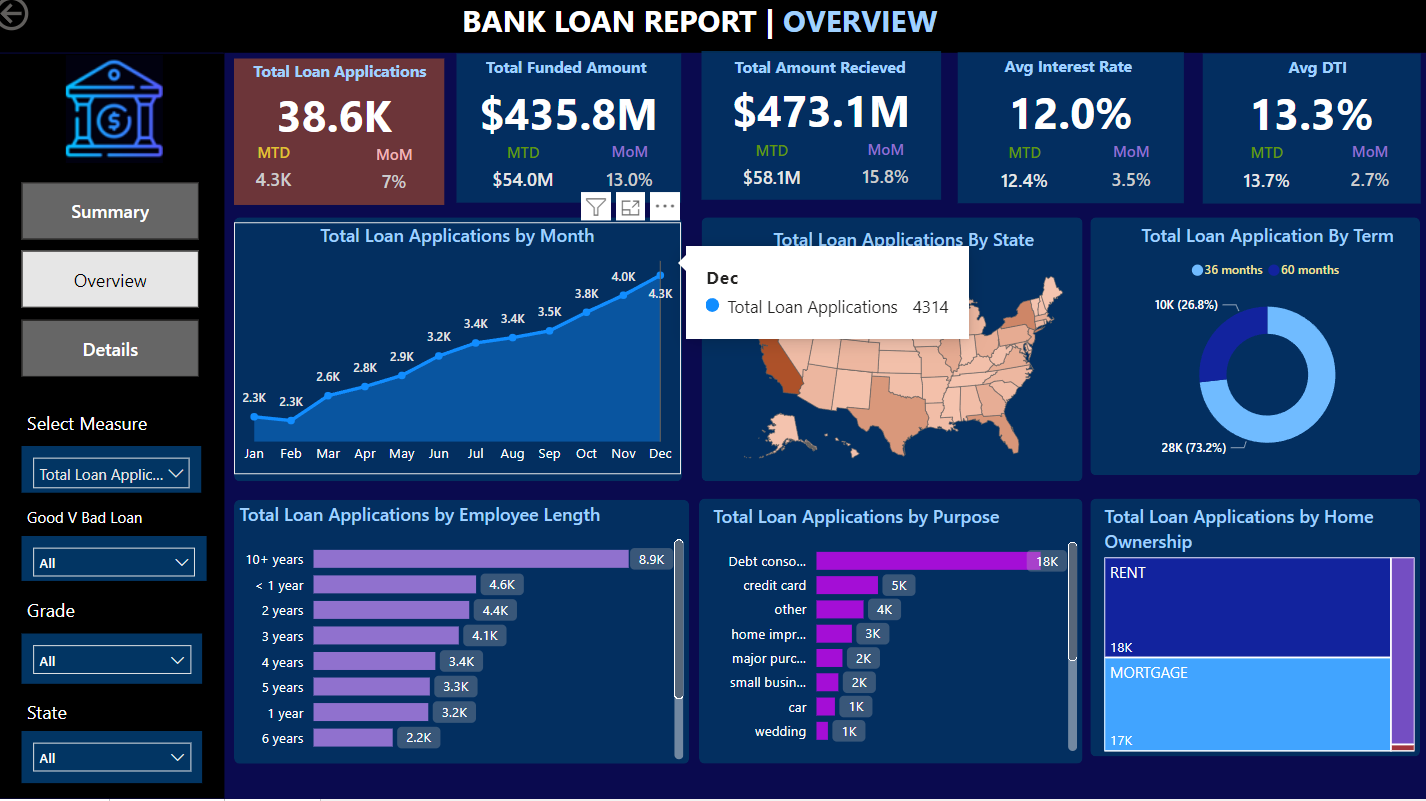

This screenshot's page, from the dashboard's own definition file:
{"tool":"powerbi","page":{"name":"Overview","canvas":[1280,720],"ordinal":1},"visuals":[{"type":"shape","box":[0,0,1280.3,55],"z":0},{"type":"shape","box":[633.9,54.5,213.3,132.4],"z":0,"group":"g13"},{"type":"shape","box":[862.1,54.6,201.3,134.8],"z":0,"group":"g10"},{"type":"shape","box":[416.5,55.8,200.2,132.9],"z":0,"group":"g11"},{"type":"shape","box":[1080.7,55.8,194.1,133.6],"z":0,"group":"g12"},{"type":"shape","box":[218.1,59.7,187.5,130.6],"z":1000},{"type":"card","fields":{"Values":["Bank_Loan.Total Amount Recieved"]},"box":[633.8,74.7,213.3,63.2],"z":1000,"group":"g13"},{"type":"card","fields":{"Values":["Bank_Loan.Avg Interest Rate"]},"box":[862,75.1,201.3,64.3],"z":1000,"group":"g10"},{"type":"card","fields":{"Values":["Bank_Loan.Total Funded Amount"]},"box":[416.4,76,200.2,63.4],"z":1000,"group":"g11"},{"type":"card","fields":{"Values":["Bank_Loan.Avg DTI"]},"box":[1080.6,76.1,194.1,63.7],"z":1000,"group":"g12"},{"type":"textbox","box":[883.7,51.9,179.7,39.1],"z":2000,"group":"g10"},{"type":"textbox","box":[438,53.1,178.7,38.5],"z":2000,"group":"g11"},{"type":"textbox","box":[1101.5,53.1,173.3,38.7],"z":2000,"group":"g12"},{"type":"textbox","box":[657.7,54,177.8,41.7],"z":2000,"group":"g13"},{"type":"shape","box":[0,56.1,209.8,663.4],"z":2000},{"type":"card","fields":{"Values":["Bank_Loan.Toatl Loan Applications"]},"box":[209.6,79.3,196.5,62.6],"z":3000},{"type":"card","title":"MTD","fields":{"Values":["Bank_Loan.MTD Total Amount Recieved"]},"box":[659.7,132.9,74.3,53.4],"z":3000,"group":"g13"},{"type":"card","title":"MTD","fields":{"Values":["Bank_Loan.MTD Funded Amount"]},"box":[440.7,134.4,69.7,53.5],"z":3000,"group":"g11"},{"type":"card","title":"MTD","fields":{"Values":["Bank_Loan.MTD Avg Interest Rate"]},"box":[886.4,134.4,70.1,54.3],"z":3000,"group":"g10"},{"type":"card","title":"MTD","fields":{"Values":["Bank_Loan.MTD Average DTI"]},"box":[1104.2,134.9,67.6,53.8],"z":3000,"group":"g12"},{"type":"group","id":"g1","title":"Group 3","box":[862,51.9,201.4,137.5],"z":3001,"group":"g9"},{"type":"group","id":"g2","title":"Group 3","box":[416.4,53.1,200.3,135.5],"z":3001,"group":"g6"},{"type":"group","id":"g3","title":"Group 3","box":[633.8,54,213.4,133],"z":3001,"group":"g7"},{"type":"group","id":"g4","title":"Group 4","box":[416.4,53.1,200.3,135.5],"z":3002,"group":"g2"},{"type":"group","id":"g5","title":"Group 4","box":[1080.6,53.1,194.2,136.3],"z":3002,"group":"g8"},{"type":"textbox","box":[230.8,56.7,175.4,38.1],"z":4000},{"type":"card","title":"MoM","fields":{"Values":["Bank_Loan.MOM Total Amount Recieved"]},"box":[767.2,131.3,60.9,54.3],"z":4000,"group":"g13"},{"type":"card","title":"MoM","fields":{"Values":["Bank_Loan.MOM Total Funded Amount"]},"box":[541.6,132.8,57.2,54.5],"z":4000,"group":"g11"},{"type":"card","title":"MoM","fields":{"Values":["Bank_Loan.MoM Avg Interest rate"]},"box":[987.9,132.8,57.5,55.3],"z":4000,"group":"g10"},{"type":"card","title":"MoM","fields":{"Values":["Bank_Loan.MOM Avg DTI"]},"box":[1202,133.3,55.4,54.8],"z":4000,"group":"g12"},{"type":"shape","box":[218.1,201.1,398.9,235.1],"z":5000},{"type":"card","title":"MTD","fields":{"Values":["Bank_Loan.MTD Loan Applications"]},"box":[230.2,135.1,46.1,53.1],"z":6000},{"type":"card","title":"MoM","fields":{"Values":["Bank_Loan.MOM Loan Applications"]},"box":[332.5,135.4,56.1,53.8],"z":7000},{"type":"textbox","box":[416.1,3.6,447.4,48.2],"z":8000},{"type":"group","id":"g6","title":"Group 1","box":[416.4,53.1,200.3,135.5],"z":9000},{"type":"group","id":"g7","title":"Group 1","box":[633.8,54,213.4,133],"z":10000},{"type":"group","id":"g8","title":"Group 3","box":[1080.6,53.1,194.2,136.3],"z":11000},{"type":"group","id":"g9","title":"Group 1","box":[862,51.9,201.4,137.5],"z":12000},{"type":"actionButton","box":[0,0,100,40],"z":13000},{"type":"slicer","fields":{"Values":["Bank_Loan.address_state"]},"box":[29.3,658.5,161,46.3],"z":14000},{"type":"textbox","box":[29.3,625.6,154.9,32.9],"z":15000},{"type":"slicer","fields":{"Values":["Bank_Loan.grade"]},"box":[29.3,572,161,45.1],"z":16000},{"type":"slicer","fields":{"Values":["Bank_Loan.Good Vs Bad Loan"]},"box":[29.3,485.4,164.6,40.2],"z":17000},{"type":"textbox","box":[29.3,535.4,164.6,35.4],"z":18000},{"type":"textbox","box":[29.3,453.7,139,31.7],"z":19000},{"type":"shape","box":[634,201.1,339.4,235.1],"z":20000},{"type":"shape","box":[218.1,453.2,405.3,235.1],"z":21000},{"type":"shape","box":[631.9,452.1,341.5,236.2],"z":22000},{"type":"shape","box":[980.9,201.1,293.6,229.8],"z":23000},{"type":"areaChart","title":"Total Loan Applications by Month","fields":{"Y":["Bank_Loan.Total Loan Applications"],"Category":["Date Table.Month"]},"box":[218.1,206.4,397.9,224.5],"z":24000},{"type":"slicer","fields":{"Values":["Select Measure.Select Measure"]},"box":[29.3,404.9,159.8,41.5],"z":25000},{"type":"textbox","box":[29.3,368.3,130.5,39],"z":26000},{"type":"shapeMap","title":"Total Loan Applications By State","fields":{"Value":["Bank_Loan.Total Loan Applications"],"Category":["Bank_Loan.address_state"]},"box":[639.4,209.6,348.9,221.3],"z":27000},{"type":"donutChart","title":"Total Loan Application By Term","fields":{"Y":["Bank_Loan.Total Loan Applications"],"Category":["Bank_Loan.term"]},"box":[1001.1,205.3,273.4,221.3],"z":28000},{"type":"barChart","title":"Total Loan Applications by Employee Length","fields":{"Y":["Bank_Loan.Total Loan Applications"],"Category":["Bank_Loan.emp_length"]},"box":[218.1,454.3,405.3,235.1],"z":29000},{"type":"barChart","title":"Total Loan Applications by Purpose","fields":{"Y":["Bank_Loan.Total Loan Applications"],"Category":["Bank_Loan.purpose"]},"box":[639.4,456.4,334,225.5],"z":30000},{"type":"shape","box":[980.9,452.1,293.6,229.8],"z":31000},{"type":"group","id":"g10","title":"Group 7","box":[862,51.9,201.4,137.5],"z":31002,"group":"g1"},{"type":"group","id":"g11","title":"Group 5","box":[416.4,53.1,200.3,135.5],"z":31002,"group":"g4"},{"type":"group","id":"g12","title":"Group 8","box":[1080.6,53.1,194.2,136.3],"z":31002,"group":"g5"},{"type":"group","id":"g13","title":"Group 6","box":[633.8,54,213.4,133],"z":31002,"group":"g3"},{"type":"treemap","title":"Total  Loan Applications by Home Ownership","fields":{"Values":["Bank_Loan.Total Loan Applications"],"Group":["Bank_Loan.home_ownership"]},"box":[988.3,456.4,286.2,225.5],"z":32000},{"type":"image","box":[61,52.4,101.2,106.1],"z":33000},{"type":"pageNavigator","box":[29.3,170.7,158.5,174.4],"z":34000}]}

Visuals, with their boxes in screenshot pixels (x1, y1, x2, y2), scaled from the page's 1280x720 canvas onto the 1426x801 screenshot:
shape: crop(0, 0, 1425, 61)
shape: crop(706, 61, 944, 208)
shape: crop(960, 61, 1185, 211)
shape: crop(464, 62, 687, 210)
shape: crop(1204, 62, 1420, 211)
shape: crop(243, 66, 452, 212)
card - Bank_Loan.Total Amount Recieved: crop(706, 83, 944, 153)
card - Bank_Loan.Avg Interest Rate: crop(960, 84, 1185, 155)
card - Bank_Loan.Total Funded Amount: crop(464, 85, 687, 155)
card - Bank_Loan.Avg DTI: crop(1204, 85, 1420, 156)
textbox: crop(984, 58, 1185, 101)
textbox: crop(488, 59, 687, 102)
textbox: crop(1227, 59, 1420, 102)
textbox: crop(733, 60, 931, 106)
shape: crop(0, 62, 234, 800)
card - Bank_Loan.Toatl Loan Applications: crop(234, 88, 452, 158)
"MTD" card: crop(735, 148, 818, 207)
"MTD" card: crop(491, 150, 569, 209)
"MTD" card: crop(988, 150, 1066, 210)
"MTD" card: crop(1230, 150, 1305, 210)
"Group 3" group: crop(960, 58, 1185, 211)
"Group 3" group: crop(464, 59, 687, 210)
"Group 3" group: crop(706, 60, 944, 208)
"Group 4" group: crop(464, 59, 687, 210)
"Group 4" group: crop(1204, 59, 1420, 211)
textbox: crop(257, 63, 453, 105)
"MoM" card: crop(855, 146, 923, 206)
"MoM" card: crop(603, 148, 667, 208)
"MoM" card: crop(1101, 148, 1165, 209)
"MoM" card: crop(1339, 148, 1401, 209)
shape: crop(243, 224, 687, 485)
"MTD" card: crop(256, 150, 308, 209)
"MoM" card: crop(370, 151, 433, 210)
textbox: crop(464, 4, 962, 58)
"Group 1" group: crop(464, 59, 687, 210)
"Group 1" group: crop(706, 60, 944, 208)
"Group 3" group: crop(1204, 59, 1420, 211)
"Group 1" group: crop(960, 58, 1185, 211)
actionButton: crop(0, 0, 111, 44)
slicer - Bank_Loan.address_state: crop(33, 733, 212, 784)
textbox: crop(33, 696, 205, 733)
slicer - Bank_Loan.grade: crop(33, 636, 212, 687)
slicer - Bank_Loan.Good Vs Bad Loan: crop(33, 540, 216, 585)
textbox: crop(33, 596, 216, 635)
textbox: crop(33, 505, 187, 540)
shape: crop(706, 224, 1084, 485)
shape: crop(243, 504, 695, 766)
shape: crop(704, 503, 1084, 766)
shape: crop(1093, 224, 1420, 479)
"Total Loan Applications by Month" areaChart: crop(243, 230, 686, 479)
slicer - Select Measure.Select Measure: crop(33, 450, 211, 497)
textbox: crop(33, 410, 178, 453)
"Total Loan Applications By State" shapeMap: crop(712, 233, 1101, 479)
"Total Loan Application By Term" donutChart: crop(1115, 228, 1420, 475)
"Total Loan Applications by Employee Length" barChart: crop(243, 505, 695, 767)
"Total Loan Applications by Purpose" barChart: crop(712, 508, 1084, 759)
shape: crop(1093, 503, 1420, 759)
"Group 7" group: crop(960, 58, 1185, 211)
"Group 5" group: crop(464, 59, 687, 210)
"Group 8" group: crop(1204, 59, 1420, 211)
"Group 6" group: crop(706, 60, 944, 208)
"Total  Loan Applications by Home Ownership" treemap: crop(1101, 508, 1420, 759)
image: crop(68, 58, 181, 176)
pageNavigator: crop(33, 190, 209, 384)
